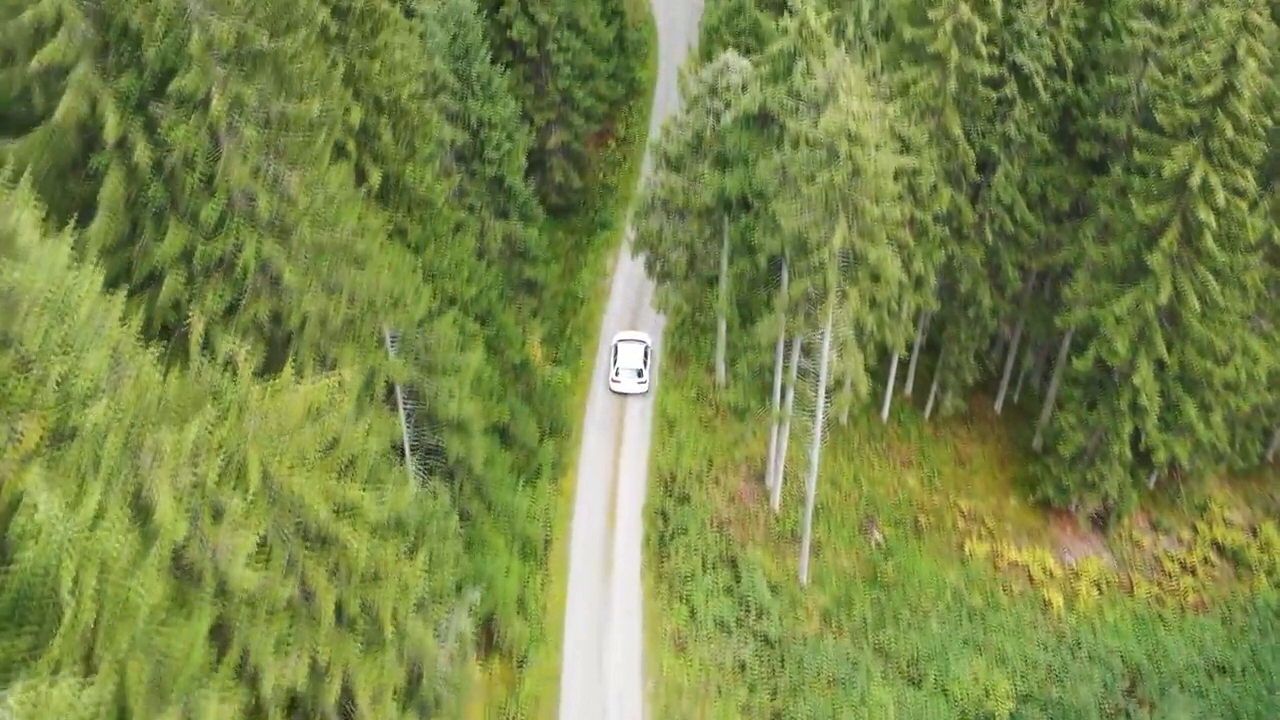araba: (608, 327, 655, 393)
